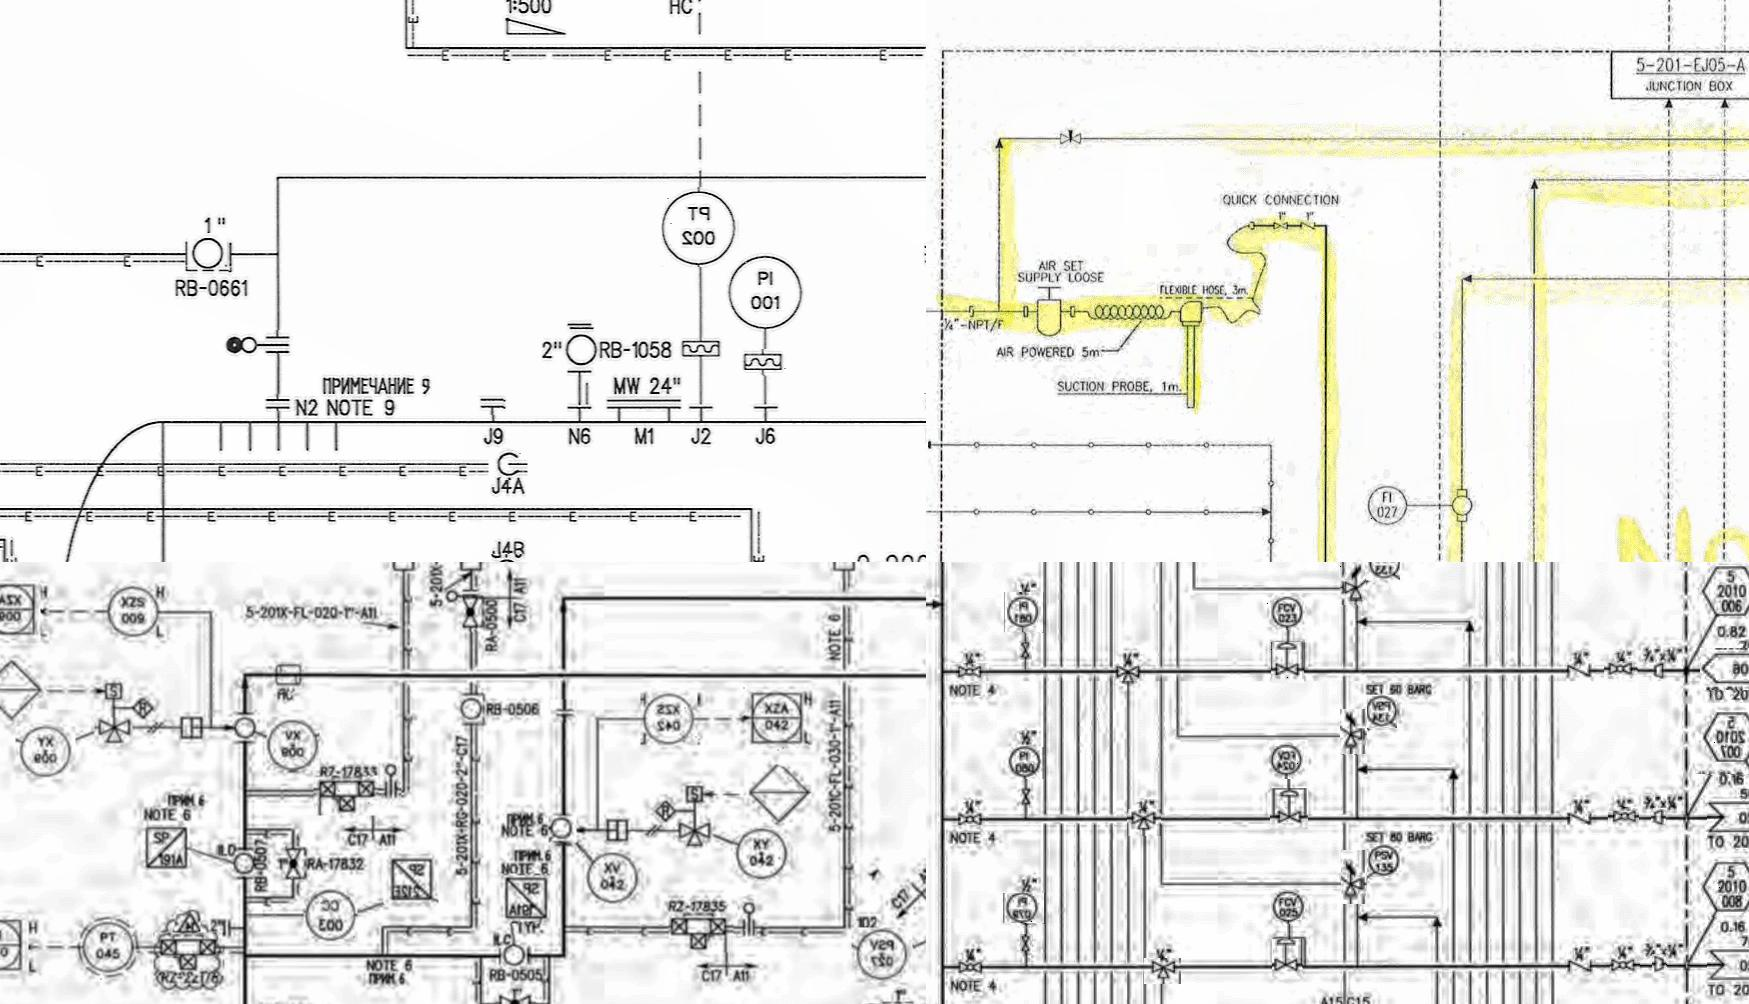2 WAY VALVE: (154, 932, 223, 975), (669, 909, 734, 954), (314, 776, 380, 817)
3 WAY GENERAL VALVE: (674, 819, 715, 853), (95, 717, 135, 746), (1145, 958, 1182, 984), (1128, 809, 1162, 837), (1115, 663, 1144, 687)
ANGLE RELIEF VALVE: (1341, 850, 1367, 904), (1341, 710, 1369, 755), (1341, 562, 1367, 606)
BLIND SPADE OPEN: (378, 763, 401, 803), (738, 896, 759, 938)
CONCENTRIC REDUCER: (1653, 955, 1669, 980), (1652, 808, 1667, 831)
CONNECTOR: (489, 448, 529, 480), (491, 554, 523, 562)
DCS ACCESSIBLE: (744, 686, 808, 752), (0, 579, 42, 643), (0, 913, 28, 978)
DIAPHRAGM ACTUATED VALVE: (1270, 789, 1308, 831), (1271, 643, 1305, 685), (1273, 940, 1305, 978)
DIAPHRAGM SEAL: (739, 349, 790, 377), (676, 337, 724, 366)
DUPLEX RECEPTACLE: (267, 657, 304, 691)
END FLANGED: (259, 394, 296, 411), (551, 699, 578, 722), (479, 394, 505, 416), (917, 392, 926, 414)
FIELD INSTRUMENT: (662, 187, 738, 267), (727, 253, 802, 328), (71, 908, 144, 982), (583, 848, 643, 907), (852, 928, 914, 984), (640, 687, 698, 746), (105, 582, 160, 640), (733, 826, 790, 882), (14, 727, 74, 779), (265, 717, 320, 771), (304, 888, 358, 942), (1363, 480, 1413, 528), (185, 234, 228, 276), (1004, 592, 1045, 633), (562, 327, 598, 367), (1267, 594, 1308, 631), (1270, 741, 1307, 779), (1003, 747, 1045, 779), (1004, 894, 1046, 925), (1367, 841, 1399, 880), (1272, 891, 1307, 925), (1367, 697, 1398, 730), (548, 815, 577, 844), (501, 942, 531, 969), (231, 851, 259, 878), (233, 715, 258, 745), (459, 693, 483, 723), (1368, 562, 1402, 582)
GATE VALVE: (1019, 787, 1032, 808), (1019, 641, 1032, 661), (1020, 936, 1032, 955)
GLOBE VALVE: (462, 590, 484, 632), (285, 843, 308, 883), (495, 990, 535, 1004)
HARDWIRED INTERLOCK FIELD: (652, 795, 686, 821), (131, 697, 156, 719)
HARDWIRED INTERLOCK PRIMARY.: (744, 766, 811, 824), (0, 661, 46, 719)
NO ACCESS INDICATOR: (1696, 703, 1749, 775), (1702, 857, 1749, 918)
PIPE CONNECTION FLAG: (1701, 649, 1749, 692), (1707, 796, 1749, 837), (1707, 945, 1749, 984)
PLUG VALVE: (954, 956, 987, 980), (950, 663, 989, 681), (954, 809, 987, 830), (1610, 955, 1640, 978), (1608, 807, 1638, 829), (1605, 662, 1638, 681)
REVISION TRIANGLE: (174, 908, 199, 931)
SPECIAL PIPING ITEM: (138, 821, 196, 874), (383, 854, 438, 906), (500, 873, 551, 924)
SPECTACLE BLIND OPEN: (216, 330, 303, 354)
SPEED FLOW METER: (681, 778, 715, 808), (100, 675, 129, 705)
